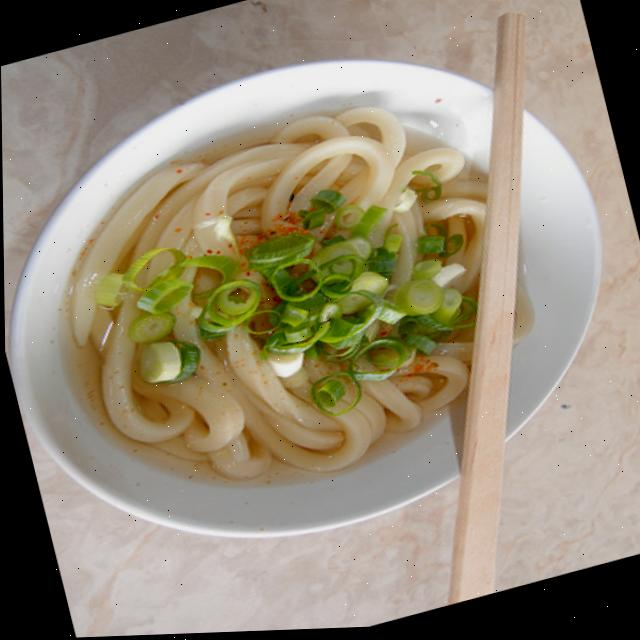面条主食: (1, 31, 620, 558)
